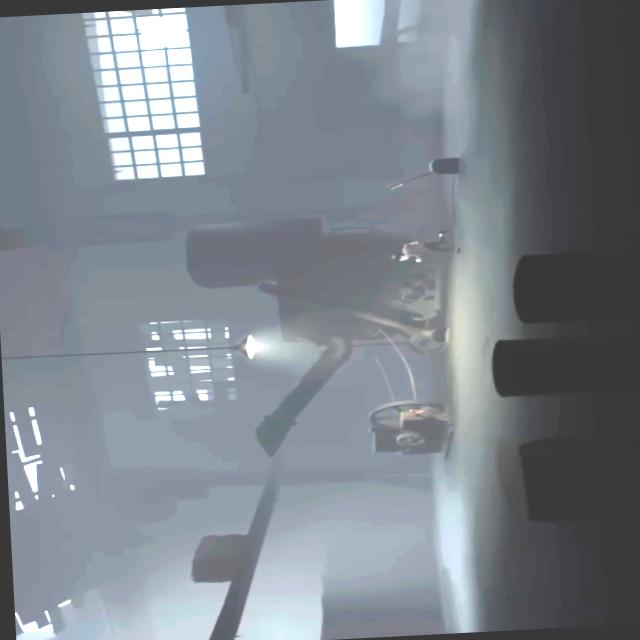boy: (390, 232, 457, 262)
